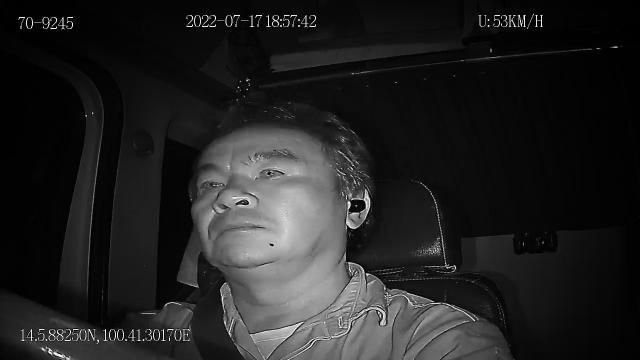SafeDriving: (251, 156, 293, 185), (193, 170, 231, 198)
Seatbelt: (189, 276, 247, 360)
